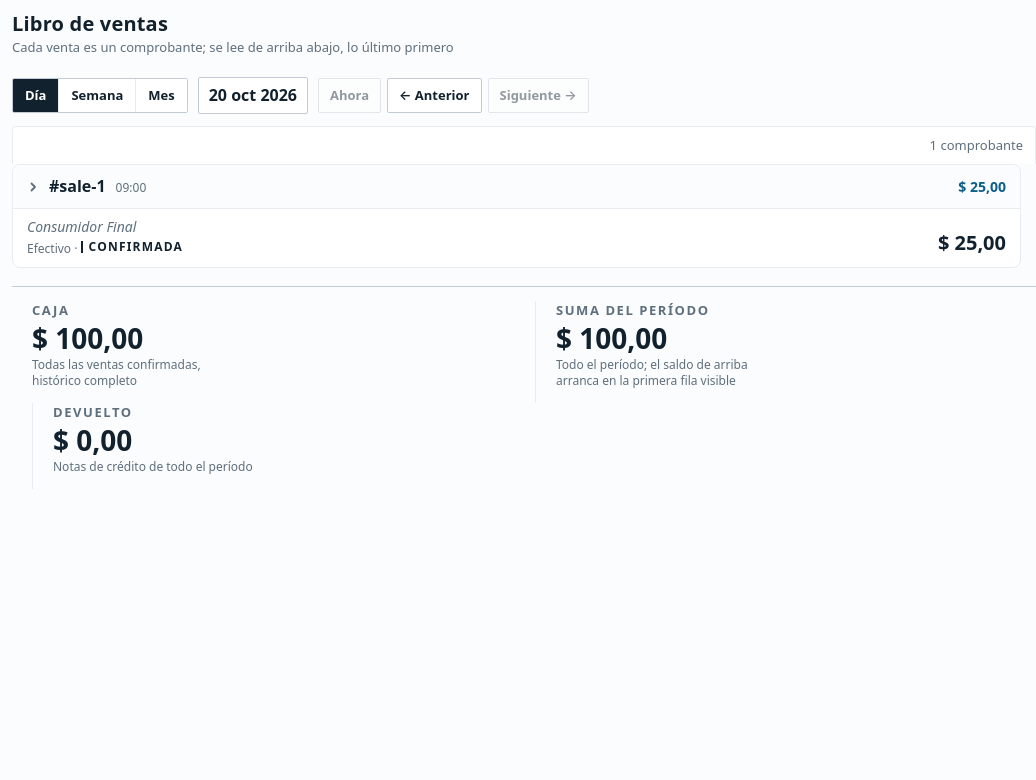
a recorded note whose reload fails › says the note was recorded rather than that the book could not be read
Click the button that starts with "#sale-1" at (516, 187), box [12, 164, 1021, 268]
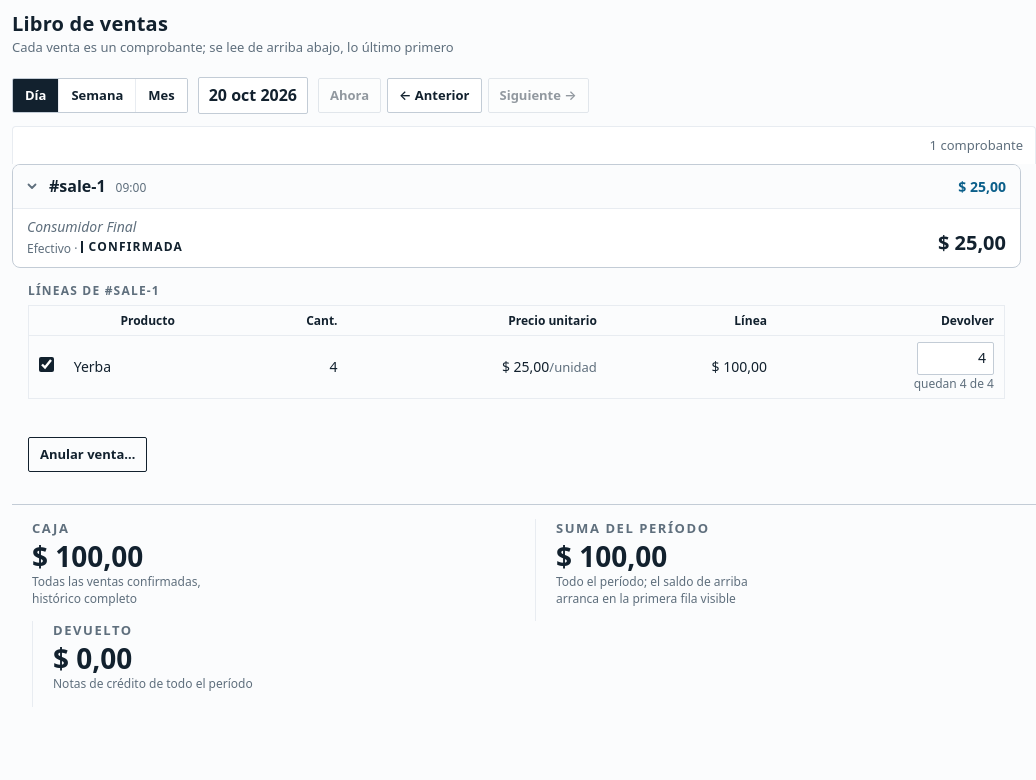
Click the button "Anular venta…" at (88, 454), box [28, 437, 147, 472]
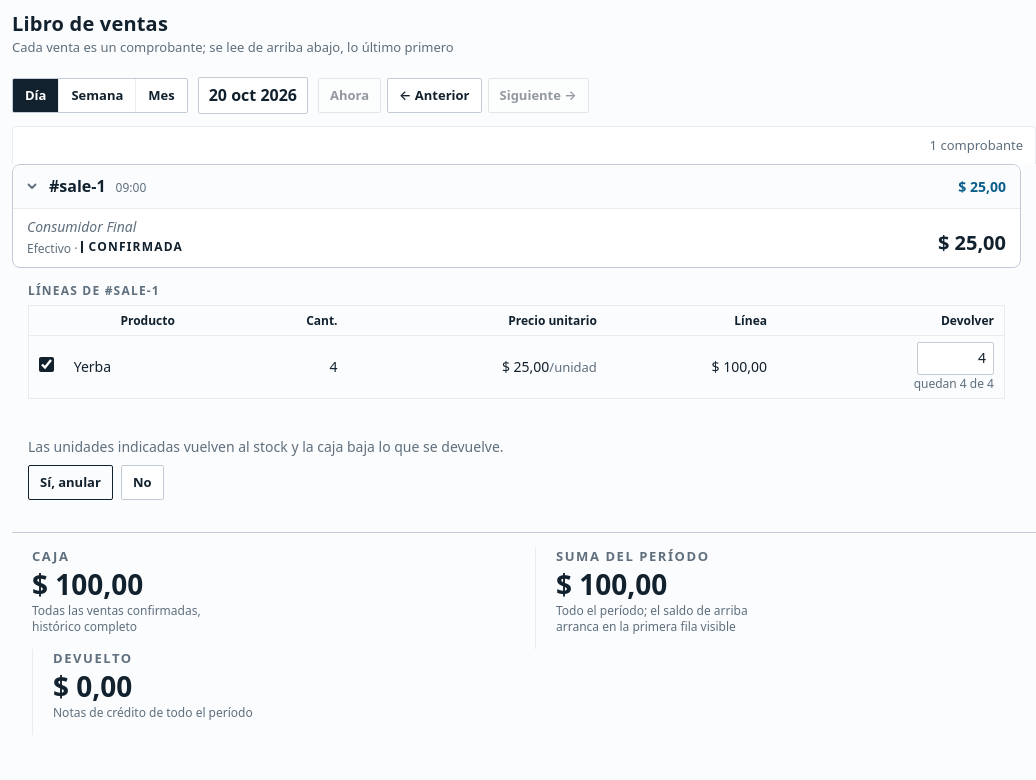
Click the button "Sí, anular" at (70, 483), box [28, 465, 113, 500]
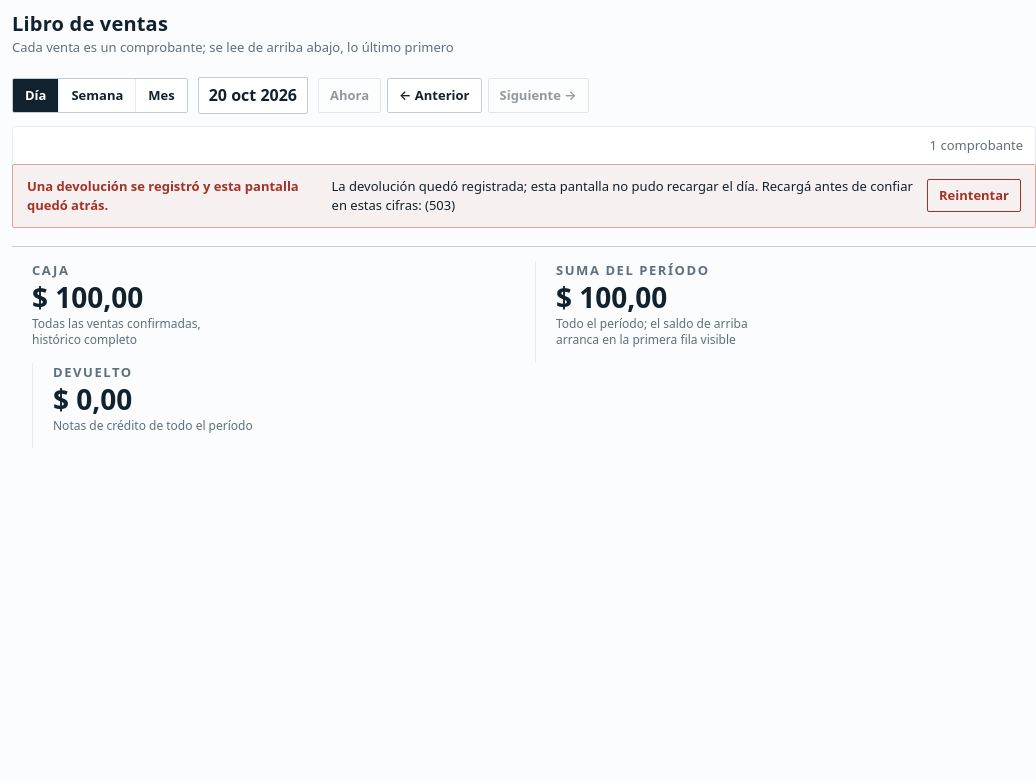
Expected: the message shows "La devolución quedó registrada", [332, 177, 913, 214]
